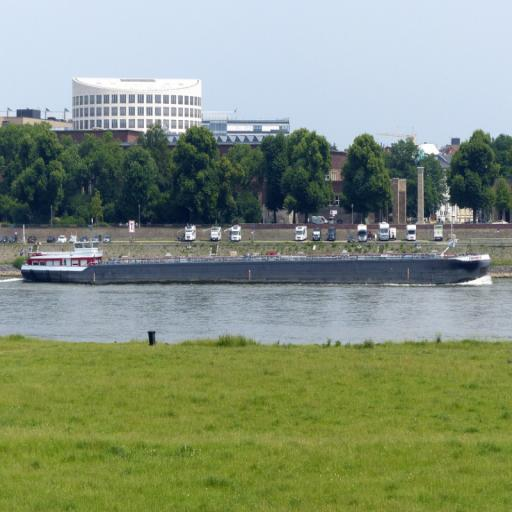tugboat: (18, 234, 108, 298)
